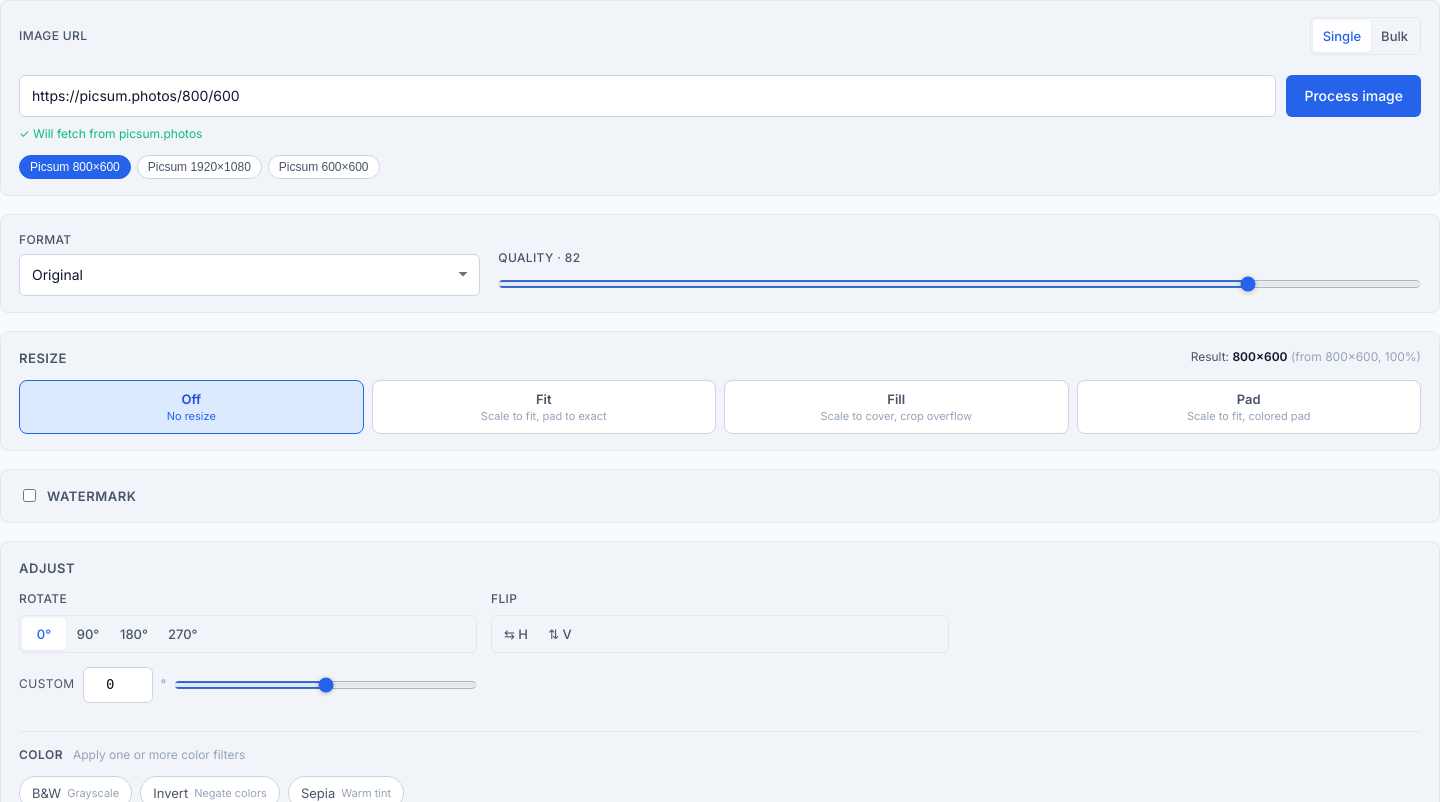
Test case: JobForm › enables the watermark and shows the backing toggle
Step 1. Click the checkbox labelled "Watermark" → [30, 496], box [23,489,36,502]
(page scrolled)
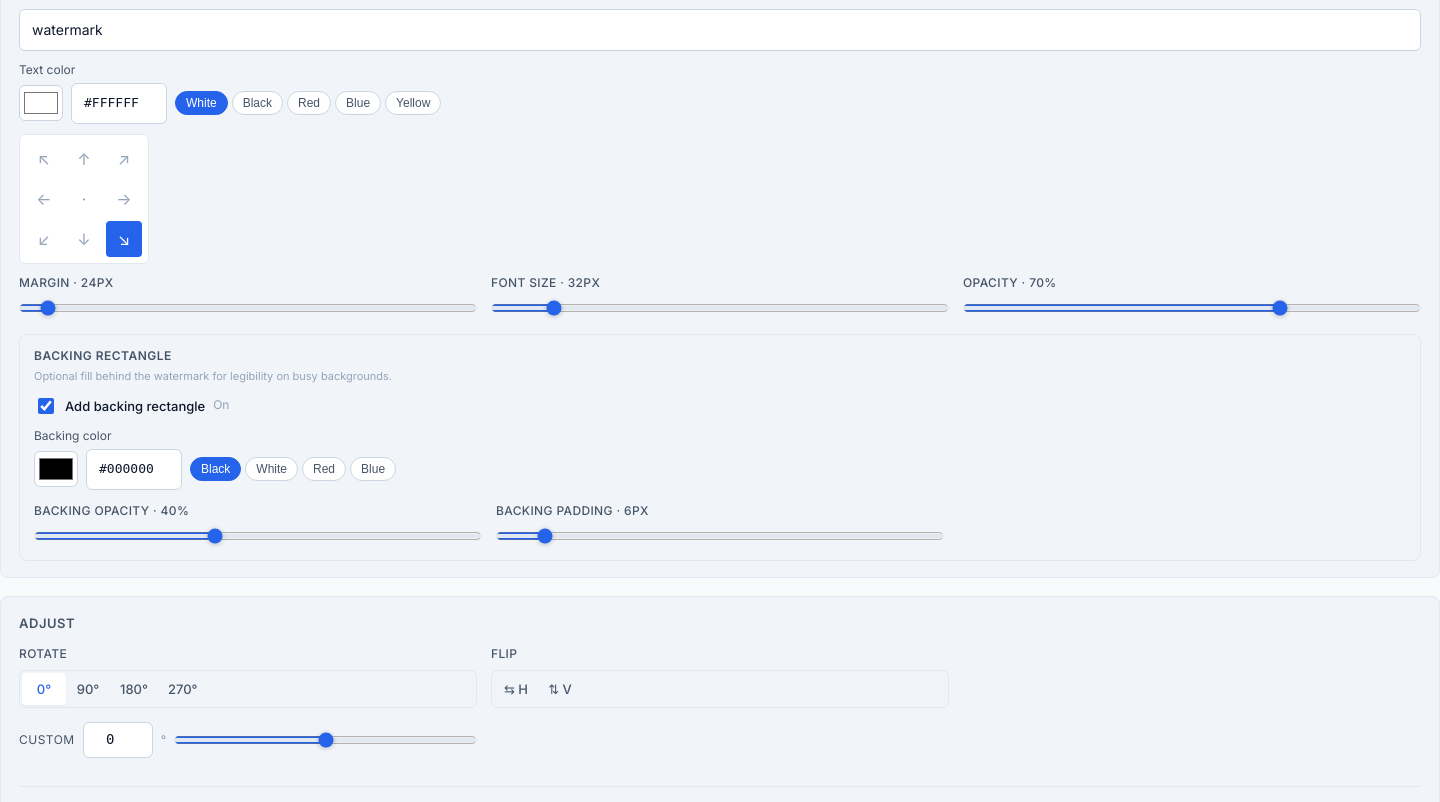
Check: the checkbox labelled "Add backing rectangle On" is shown, box [38,398,54,414]
